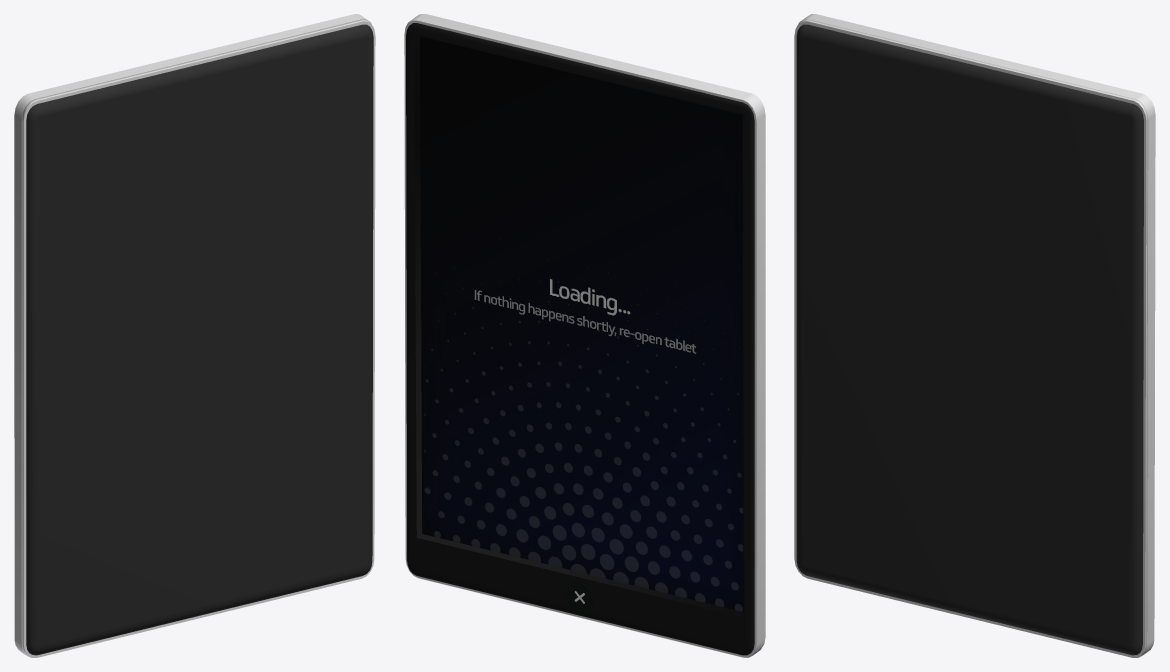
Rendered from tablet-with-home-button-small-bezel.fbx.
The picture shows the model from 3 angles, left to right: view 1: azimuth 30°, elevation 25°; view 2: azimuth 150°, elevation 25°; view 3: azimuth 330°, elevation 25°; orthographic projection.
Visible parts, largest first — view 1: polySurface107, polySurface101, polySurface99, polySurface105; view 2: polySurface102, polySurface98, polySurface101, polySurface100, polySurface104, polySurface105, polySurface106; view 3: polySurface107, polySurface101, polySurface99, polySurface105.
Part boxes in pixels (x1,y1,x2,y2): polySurface107: (26, 24, 373, 655); polySurface101: (14, 14, 366, 654); polySurface99: (23, 21, 375, 657); polySurface105: (21, 19, 371, 657); polySurface102: (414, 34, 743, 617); polySurface98: (406, 23, 754, 655); polySurface101: (412, 14, 764, 654); polySurface100: (404, 20, 756, 656); polySurface104: (404, 19, 757, 657); polySurface105: (425, 14, 765, 644); polySurface106: (567, 584, 592, 611); polySurface107: (796, 24, 1143, 655); polySurface101: (802, 14, 1155, 654); polySurface99: (794, 21, 1146, 657); polySurface105: (797, 19, 1148, 657).
Size of the model in its own units: 29.62 by 44.84 by 2.14.
6 materials, 4 textured.
